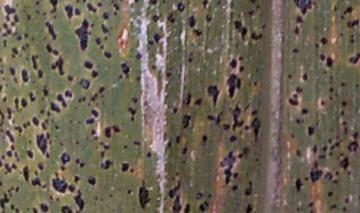tarspot: (166, 179, 183, 213), (75, 18, 91, 54), (219, 148, 234, 184), (225, 72, 243, 99), (205, 83, 223, 109), (230, 102, 244, 134), (33, 130, 49, 157), (136, 182, 151, 210), (43, 19, 60, 43), (233, 18, 248, 43), (293, 1, 318, 15), (309, 161, 324, 183), (51, 175, 68, 194), (50, 57, 66, 77), (250, 116, 262, 141), (104, 123, 121, 140), (118, 59, 132, 79), (72, 193, 86, 212), (1, 22, 14, 41), (248, 29, 265, 43), (338, 155, 351, 173), (243, 179, 255, 197), (30, 51, 40, 72), (4, 161, 18, 175), (44, 44, 59, 57), (47, 1, 60, 16), (2, 2, 17, 15), (21, 162, 30, 183), (98, 159, 115, 170), (127, 105, 138, 122), (347, 51, 360, 65), (19, 67, 29, 85), (59, 150, 71, 165), (77, 77, 92, 89), (305, 123, 317, 138), (182, 113, 192, 131), (183, 90, 193, 108), (165, 11, 177, 26), (345, 17, 360, 29), (345, 141, 360, 153), (196, 201, 211, 213), (19, 95, 30, 111), (293, 177, 304, 193), (63, 3, 74, 19), (5, 104, 14, 123), (325, 52, 334, 71), (48, 101, 61, 114), (227, 132, 240, 145), (29, 176, 43, 188), (4, 129, 16, 143), (1, 191, 9, 212), (99, 22, 111, 36), (62, 88, 75, 100), (346, 33, 358, 46), (179, 144, 190, 158), (291, 23, 302, 37), (31, 112, 40, 128), (286, 97, 302, 106), (192, 27, 204, 39), (148, 62, 160, 74), (84, 2, 96, 14), (83, 58, 94, 71), (87, 174, 98, 187), (102, 50, 115, 61), (194, 95, 205, 108), (343, 4, 354, 17), (300, 105, 310, 119), (187, 13, 197, 27), (293, 146, 303, 160), (131, 138, 145, 148), (58, 204, 73, 213), (39, 201, 50, 213), (244, 201, 255, 213), (221, 121, 232, 133), (174, 1, 186, 12), (111, 2, 123, 13), (119, 160, 129, 173), (133, 51, 146, 61), (230, 181, 240, 194), (153, 31, 163, 44), (89, 93, 99, 106), (173, 133, 184, 144), (7, 65, 18, 76), (290, 44, 301, 55), (326, 85, 337, 96), (284, 71, 295, 82), (51, 122, 62, 133), (194, 190, 205, 201), (164, 68, 174, 80), (319, 35, 329, 47), (9, 45, 21, 55), (151, 12, 161, 24), (133, 72, 143, 84), (14, 123, 23, 136), (200, 132, 209, 145), (25, 147, 34, 160), (339, 119, 352, 128), (66, 72, 74, 86), (229, 57, 237, 71), (301, 70, 309, 84), (318, 51, 326, 65), (12, 95, 19, 111), (90, 108, 101, 118), (71, 173, 82, 183), (89, 70, 100, 80), (101, 11, 111, 22), (317, 98, 327, 109), (294, 84, 305, 94), (325, 189, 335, 200), (171, 105, 180, 117), (206, 111, 215, 123), (242, 122, 251, 134), (305, 199, 317, 208), (84, 118, 97, 126), (183, 200, 191, 213), (36, 162, 46, 172), (40, 87, 50, 97), (97, 84, 107, 94), (294, 15, 304, 25), (338, 80, 348, 90), (337, 109, 347, 119), (252, 155, 262, 165), (5, 147, 14, 158), (351, 130, 360, 141), (35, 72, 46, 81), (13, 14, 22, 25), (340, 97, 348, 109), (74, 6, 82, 18), (312, 143, 319, 156), (12, 148, 19, 161), (67, 184, 77, 193), (144, 150, 154, 159), (88, 127, 98, 136), (121, 142, 130, 152), (94, 37, 103, 47), (201, 1, 210, 11), (125, 187, 134, 197), (231, 170, 240, 180), (127, 166, 136, 176), (186, 55, 195, 65), (146, 1, 161, 7), (247, 9, 256, 19), (21, 30, 30, 40), (252, 79, 261, 89), (73, 138, 82, 148), (32, 1, 43, 9), (330, 201, 338, 212), (165, 139, 172, 151), (237, 151, 244, 163), (25, 118, 32, 130), (58, 138, 65, 150), (58, 164, 67, 173), (331, 177, 340, 186), (237, 66, 247, 74), (94, 1, 104, 9), (343, 195, 351, 205), (101, 143, 112, 150), (14, 184, 21, 195), (76, 95, 83, 106), (29, 94, 37, 103), (30, 205, 39, 213), (340, 205, 349, 213), (107, 193, 116, 201), (100, 149, 107, 159), (16, 33, 23, 43), (1, 94, 8, 104), (354, 81, 360, 92), (236, 54, 244, 62), (93, 134, 101, 142), (4, 14, 12, 22), (8, 202, 16, 210), (73, 156, 80, 165), (320, 143, 327, 151), (326, 138, 334, 145), (43, 118, 51, 125), (1, 178, 7, 187), (1, 67, 6, 76), (1, 83, 4, 93)
